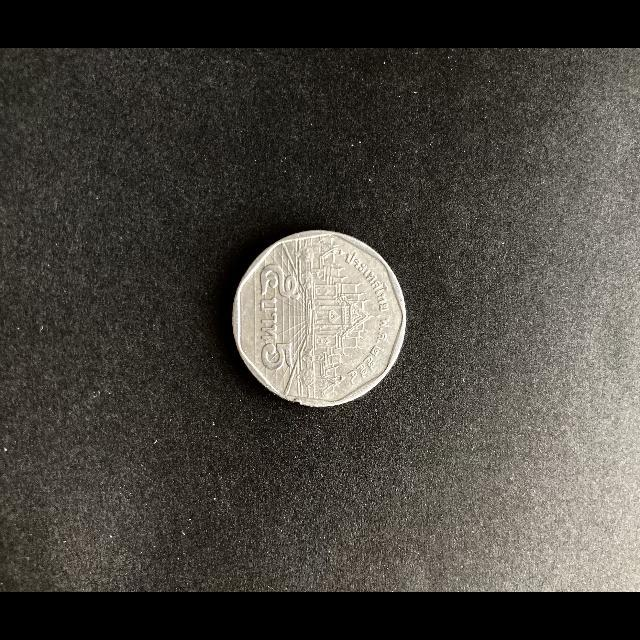5 Bath: (233, 230, 411, 412)
